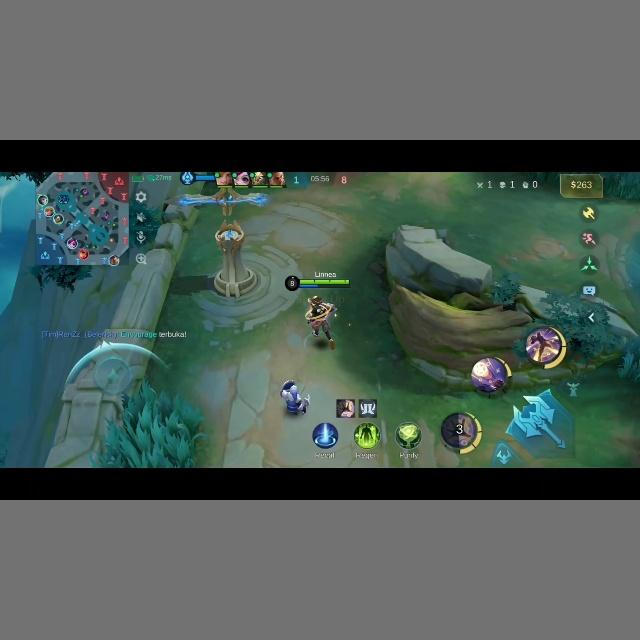hp_self: (298, 278, 349, 286)
minion_ally: (278, 378, 302, 398)
turret_ally: (207, 216, 258, 293)
